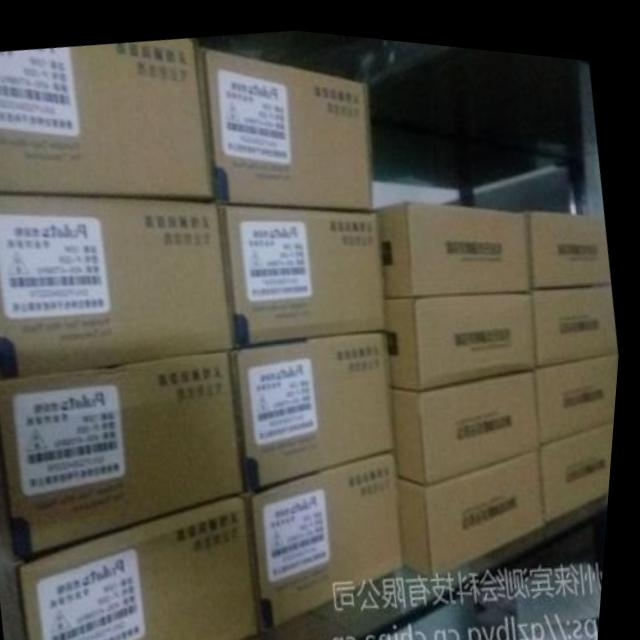box: (0, 345, 249, 556), (0, 195, 238, 378), (3, 487, 267, 640), (0, 34, 216, 195), (248, 440, 412, 624), (198, 44, 376, 202), (233, 321, 398, 485), (220, 198, 389, 340), (404, 436, 554, 568), (398, 359, 544, 476), (388, 282, 541, 380), (378, 192, 534, 287), (540, 341, 623, 433), (543, 410, 619, 510), (535, 273, 622, 354), (525, 198, 614, 275)
